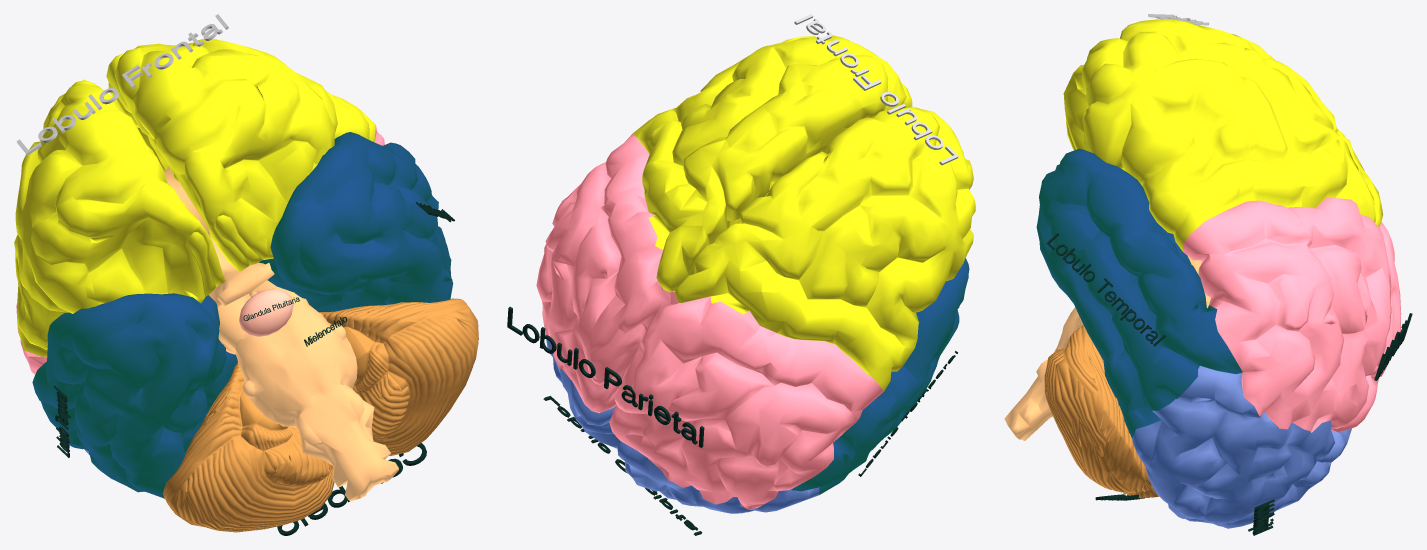
File: project-brain.fbx
3 views of the same model, side by side, from view 1: azimuth 30°, elevation 25°; view 2: azimuth 150°, elevation 25°; view 3: azimuth 270°, elevation 25° (orthographic). The views are drawn at different scales.
Parts seen in each view (by area): view 1: frontal, ID113, cereb, ID21, ID33, stem, Frontal, pitua, Cerebelo, TemporalR; view 2: frontal, pariet, ID113, ID53, ID21, occipit, Parietal, Frontal, ID99, Occipital; view 3: ID113, ID53, ID33, ID99, cereb, stem, occipit, pariet, frontal, TemporalL, Occipital, Parietal.
Part boxes in pixels (x1,y1,x2,y2): frontal: [14, 79, 225, 356]; ID113: [106, 39, 375, 271]; cereb: [163, 298, 478, 532]; ID21: [32, 293, 237, 498]; ID33: [259, 132, 453, 312]; stem: [209, 237, 398, 501]; Frontal: [16, 14, 228, 155]; pitua: [239, 288, 293, 336]; Cerebelo: [277, 443, 426, 535]; TemporalR: [53, 385, 70, 457]; frontal: [674, 107, 975, 391]; pariet: [609, 296, 883, 509]; ID113: [633, 35, 912, 292]; ID53: [536, 133, 678, 413]; ID21: [790, 258, 969, 494]; occipit: [617, 440, 819, 513]; Parietal: [507, 306, 704, 447]; Frontal: [794, 14, 958, 165]; ID99: [545, 332, 619, 448]; Occipital: [543, 396, 702, 535]; ID113: [1063, 19, 1375, 251]; ID53: [1183, 197, 1391, 432]; ID33: [1036, 149, 1242, 438]; ID99: [1132, 366, 1334, 524]; cereb: [1044, 325, 1158, 498]; stem: [1004, 255, 1210, 440]; occipit: [1186, 428, 1351, 528]; pariet: [1331, 221, 1401, 432]; frontal: [1232, 34, 1383, 226]; TemporalL: [1046, 233, 1165, 346]; Occipital: [1248, 499, 1274, 535]; Parietal: [1374, 313, 1412, 380].
Size of the model in its own units: 0.1462 by 0.1798 by 0.1343.
